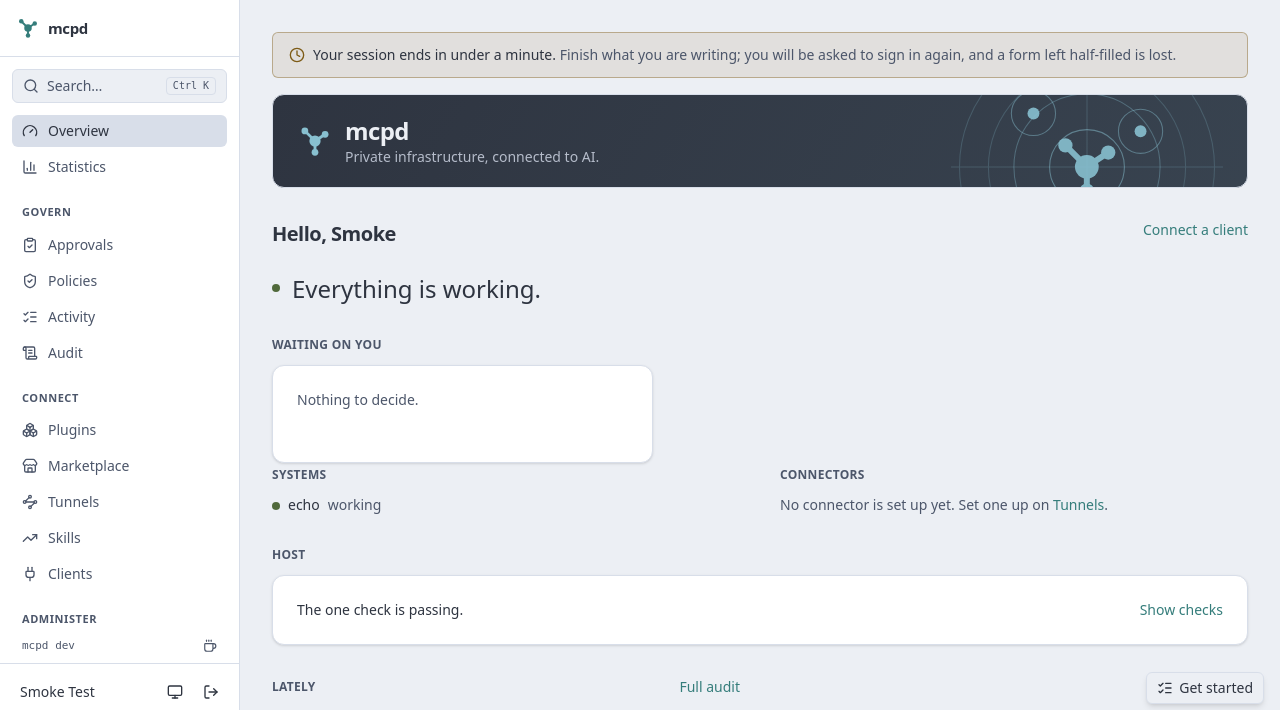
it: the console › splits builtin plugins from remote MCP servers
Click the link "Plugins". click: (59, 430)
box: left=22, top=420, right=96, bottom=439
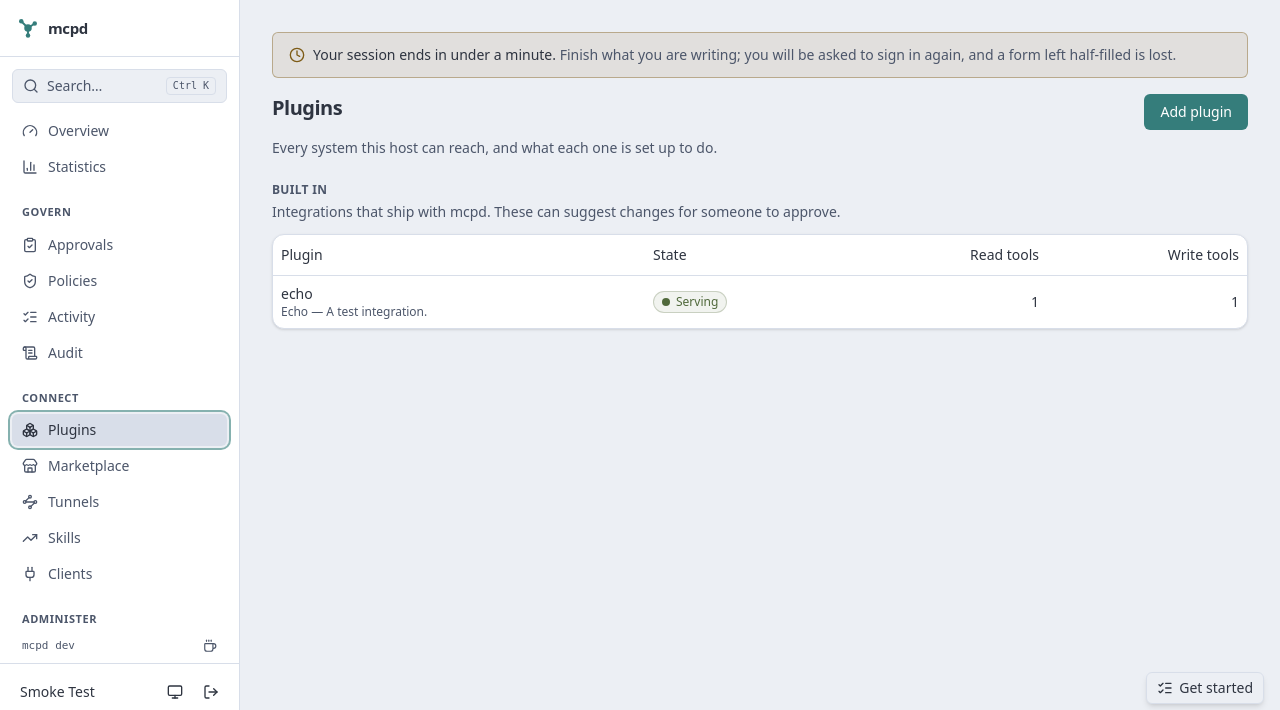
Check: the heading "Built in" is shown, box left=272, top=181, right=327, bottom=198
